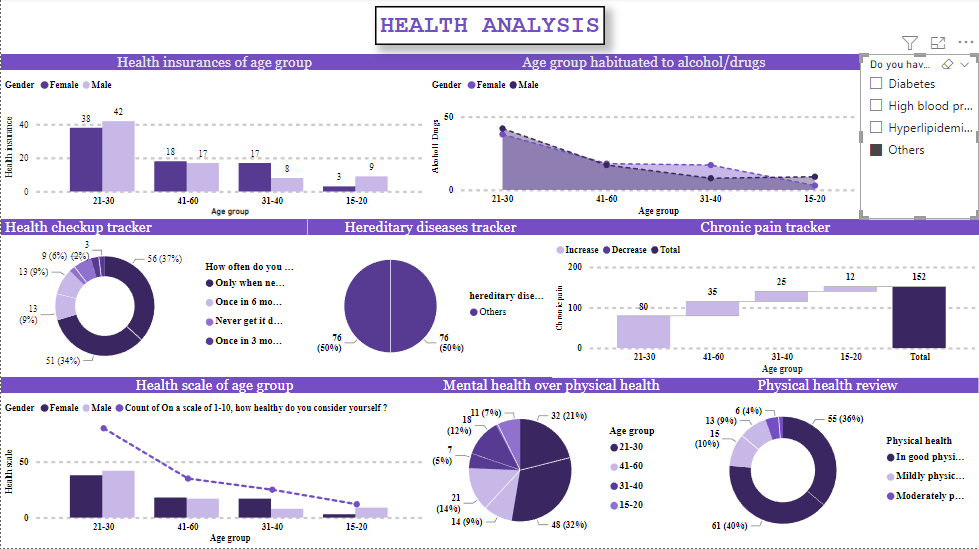

Layout of this report page (visuals, bound fields, positions):
{"tool":"powerbi","page":{"name":"Page 2","canvas":[1280,720],"ordinal":1},"visuals":[{"type":"areaChart","title":"Age group habituated to alcohol/drugs ","fields":{"Category":["Health Analysis.Age group"],"Y":["CountNonNull(Health Analysis.Are you habituated to alcohol/drugs ?)"],"Series":["Health Analysis.Gender"]},"box":[558.7,72.8,565.5,216.7],"z":0},{"type":"slicer","fields":{"Values":["Health Analysis.Do you have any hereditary conditions/ diseases ?"]},"box":[1124.2,72.8,155.8,216.7],"z":1000},{"type":"clusteredColumnChart","title":"Health insurances of age group","fields":{"Series":["Health Analysis.Gender"],"Category":["Health Analysis.Age group"],"Y":["CountNonNull(Health Analysis.Do you have a health insurance ? )"]},"box":[0,72.8,558.7,216.7],"z":2000},{"type":"pieChart","title":"Hereditary diseases tracker","fields":{"Series":["Health Analysis.Gender"],"Category":["Health Analysis.Do you have any hereditary conditions/ diseases ?"],"Y":["CountNonNull(Health Analysis.Gender)"]},"box":[401.3,289.5,320,206.6],"z":3000},{"type":"donutChart","title":"Health checkup tracker","fields":{"Series":["Health Analysis.Gender"],"Y":["CountNonNull(Health Analysis.Gender)"],"Category":["Health Analysis.How often do you get a health checkup ? "]},"box":[0,289.5,401.3,206.6],"z":4000},{"type":"lineClusteredColumnComboChart","title":"Health scale of age group","fields":{"Category":["Health Analysis.Age group"],"Series":["Health Analysis.Gender"],"Y":["CountNonNull(Health Analysis.On a scale of 1-10, how healthy do you consider yourself ?)"],"Y2":["CountNonNull(Health Analysis.On a scale of 1-10, how healthy do you consider yourself ?)"]},"box":[0,496.1,558.7,223.5],"z":5000},{"type":"donutChart","title":"Physical health review ","fields":{"Y":["CountNonNull(Health Analysis.Gender)"],"Series":["Health Analysis.Gender"],"Category":["Health Analysis.Would you say you are :"]},"box":[883.8,496.1,396.2,223.5],"z":6000},{"type":"pieChart","title":"Mental health over physical health","fields":{"Category":["Health Analysis.Age group"],"Y":["CountNonNull(Health Analysis.Does your mental well being has an affect on your physical health ?)"],"Series":["Health Analysis.Does your mental well being has an affect on your physical health ?"]},"box":[558.3,495.9,325.5,223],"z":7000},{"type":"waterfallChart","title":"Chronic pain tracker ","fields":{"Category":["Health Analysis.Age group"],"Y":["CountNonNull(Health Analysis.Do you experience any chronic pain ?)"]},"box":[721.3,289.5,558.7,208.3],"z":8000},{"type":"shape","box":[489,11.1,300.6,51.3],"z":9000}]}

Visuals, with their boxes in screenshot pixels (x1, y1, x2, y2), scaled from the page's 1280x720 canvas onto the 979x549 screenshot:
"Age group habituated to alcohol/drugs " areaChart: (x1=427, y1=56, x2=860, y2=221)
slicer - Health Analysis.Do you have any hereditary conditions/ diseases ?: (x1=860, y1=56, x2=978, y2=221)
"Health insurances of age group" clusteredColumnChart: (x1=0, y1=56, x2=427, y2=221)
"Hereditary diseases tracker" pieChart: (x1=307, y1=221, x2=552, y2=378)
"Health checkup tracker" donutChart: (x1=0, y1=221, x2=307, y2=378)
"Health scale of age group" lineClusteredColumnComboChart: (x1=0, y1=378, x2=427, y2=548)
"Physical health review " donutChart: (x1=676, y1=378, x2=978, y2=548)
"Mental health over physical health" pieChart: (x1=427, y1=378, x2=676, y2=548)
"Chronic pain tracker " waterfallChart: (x1=552, y1=221, x2=978, y2=380)
shape: (x1=374, y1=8, x2=604, y2=48)
